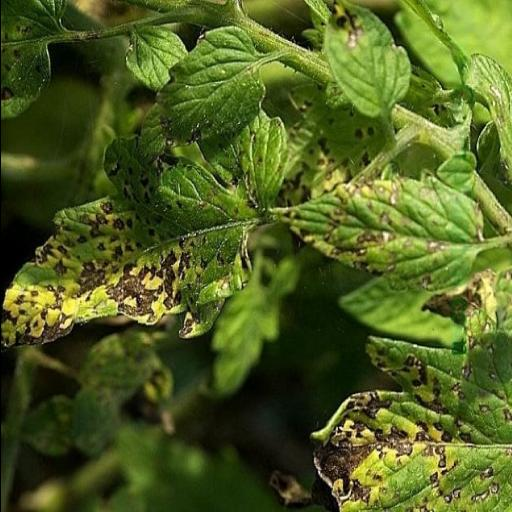Septoria: (0, 129, 260, 347), (308, 257, 512, 512), (264, 170, 484, 288), (152, 28, 264, 146), (322, 0, 418, 119)
